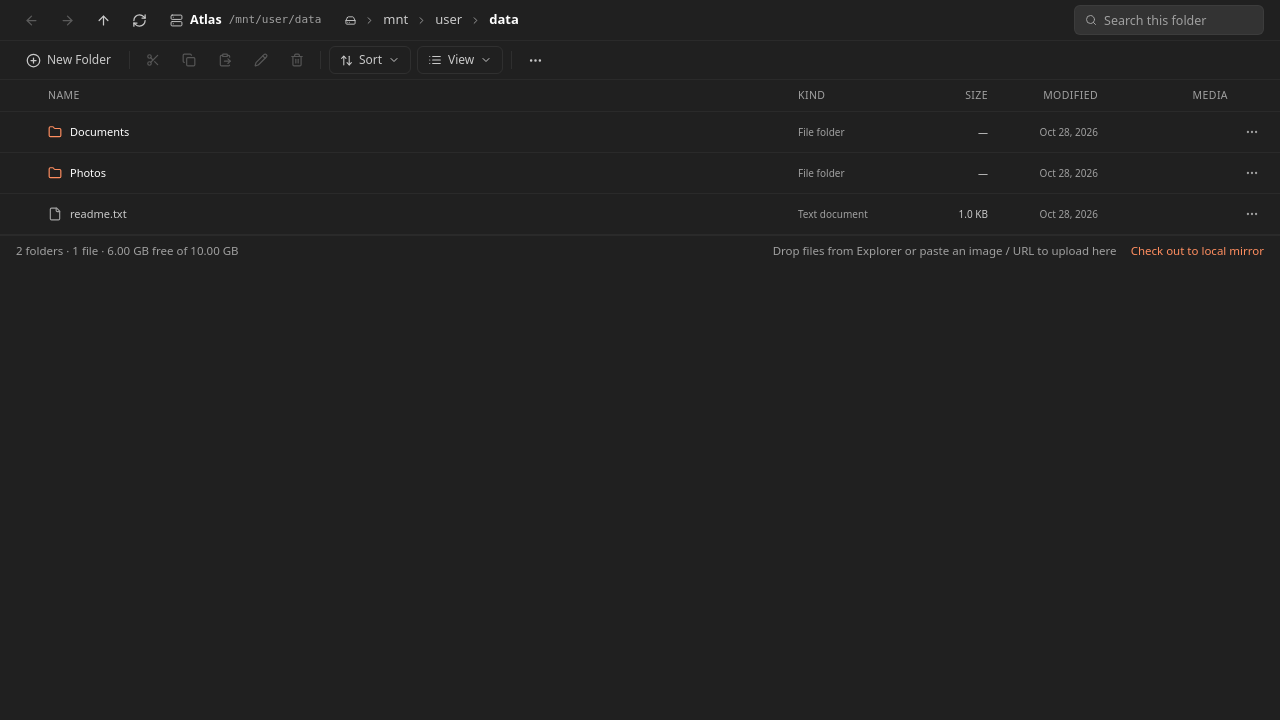
it: Right-click on the list view — respects the current selection › Right-click with nothing selected still acts on the clicked entry
This screenshot has width=1280, height=720.
Expected: the text "readme.txt" is shown, [70,206,127,222]
Right-click the text "Documents" at (640, 132), box [0,112,1279,153]
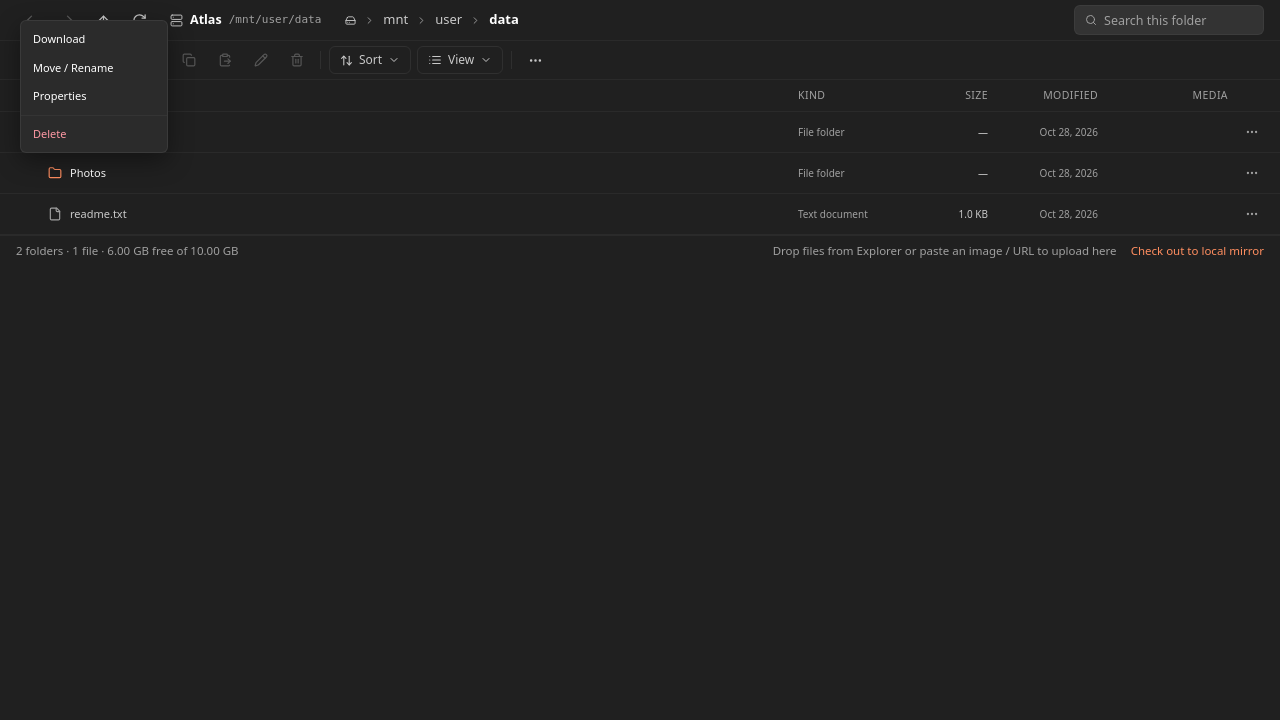
Expected: the button "Move / Rename" is shown, [21,54,167,82]
Click the button "Delete" at (94, 134), box [21,120,167,148]
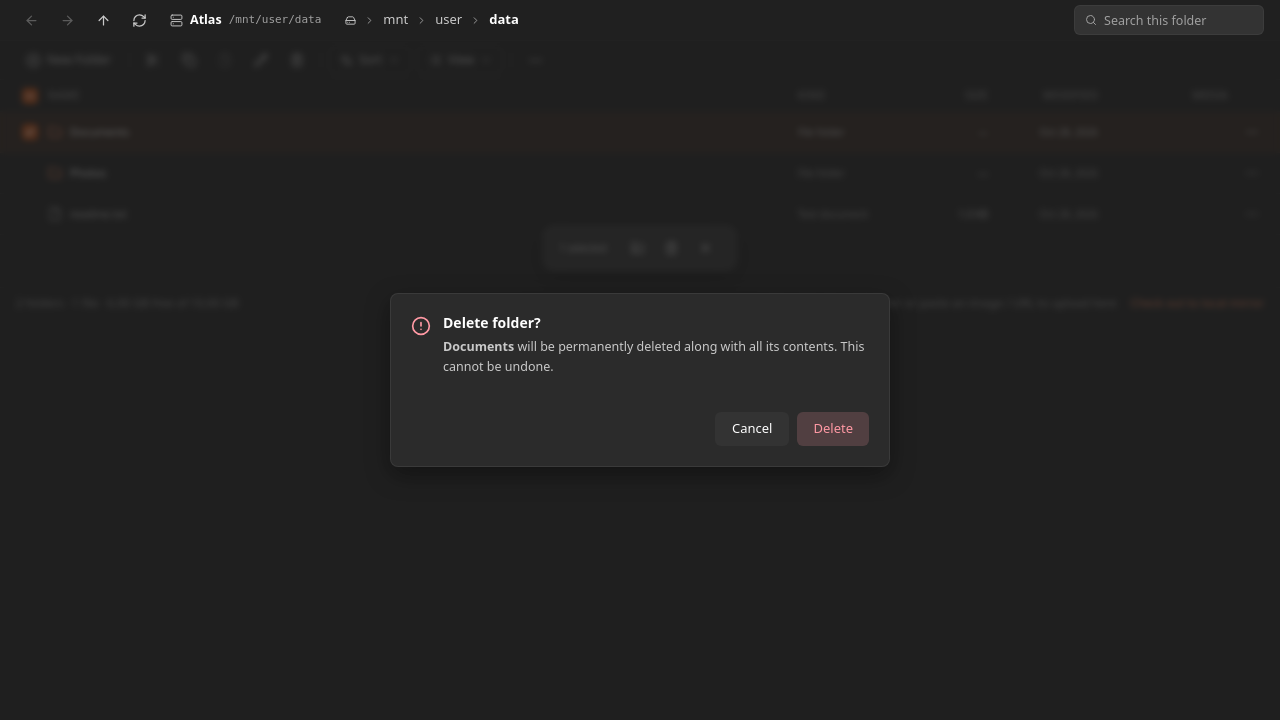
Expected: the text "Documents" is shown, [443,338,514,355]
